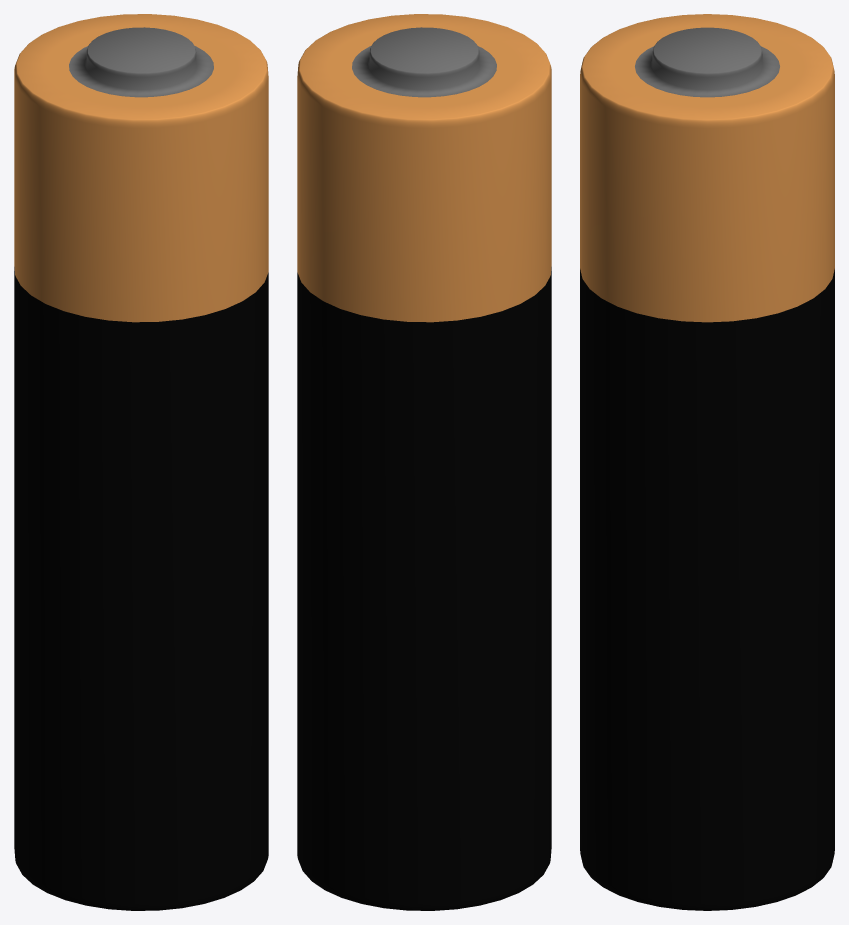
The model's file is Battery.fbx.
The picture shows the model from 3 angles, left to right: view 1: azimuth 30°, elevation 25°; view 2: azimuth 150°, elevation 25°; view 3: azimuth 270°, elevation 25°; orthographic projection.
Visible parts, largest first — view 1: Cylinder; view 2: Cylinder; view 3: Cylinder.
Part boxes in pixels (<box>): Cylinder: <box>14,14,268,910</box>; Cylinder: <box>297,14,551,910</box>; Cylinder: <box>580,14,834,910</box>.
Size of the model in its own units: 2.8 by 9.9 by 2.8.
